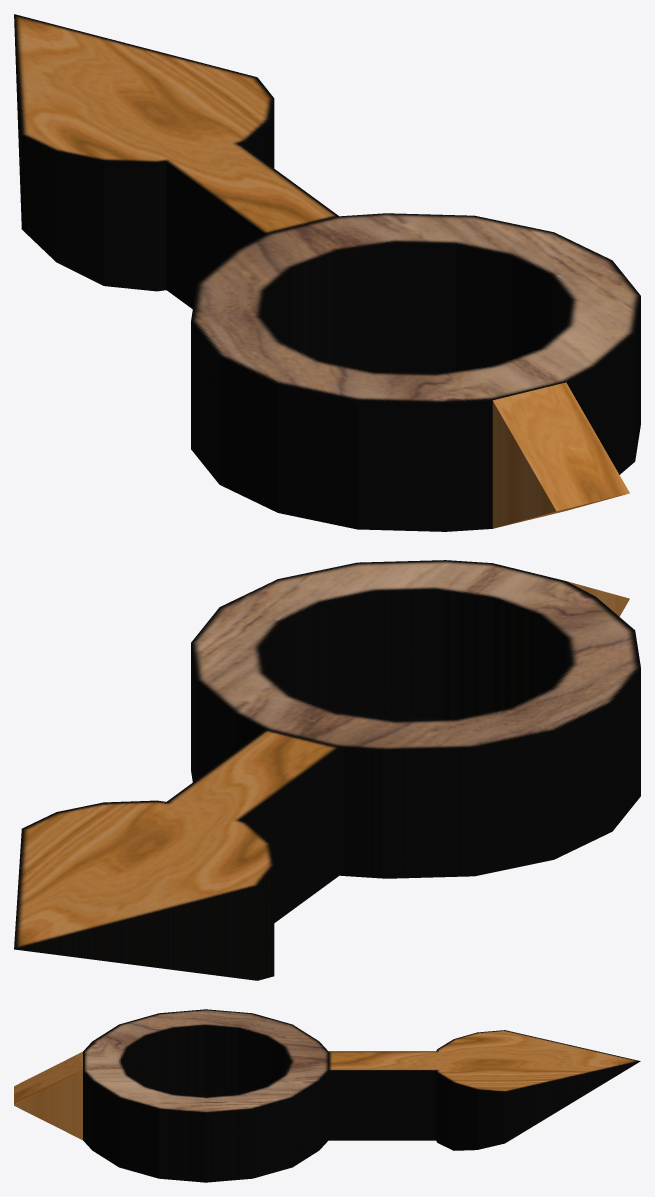
File: cannon_1.glb
3 views of the same model, one above another, from view 1: azimuth 30°, elevation 25°; view 2: azimuth 150°, elevation 25°; view 3: azimuth 270°, elevation 25° (orthographic). The views are drawn at different scales.
Parts seen in each view (by area): view 1: Arrow; view 2: Arrow; view 3: Arrow.
Boxes of the visible parts, x1=… form: Arrow: x1=14, y1=14, x2=640, y2=531; Arrow: x1=14, y1=560, x2=640, y2=980; Arrow: x1=14, y1=1009, x2=640, y2=1182.
Size of what is drawn, in the model's own units: 3.2 by 1 by 8.17.
1 material, 1 textured.
